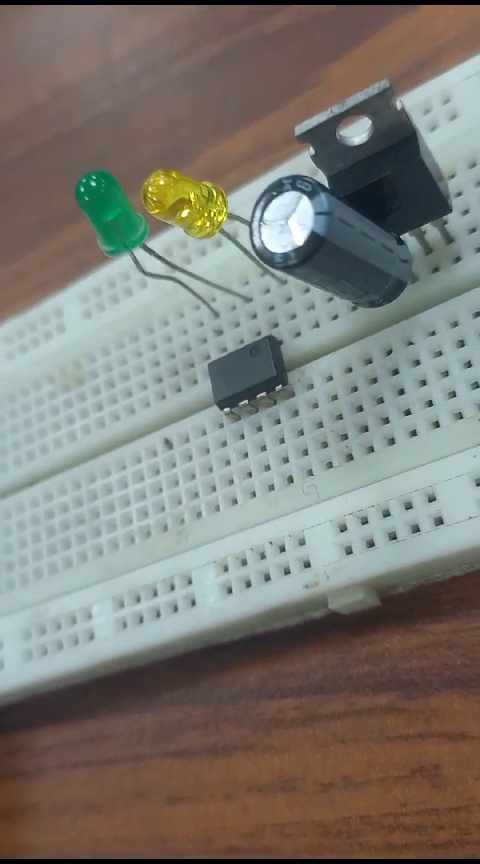IC: (188, 340, 299, 409)
LED: (59, 147, 148, 289), (139, 172, 232, 247)
capacitor: (256, 171, 411, 321)
voltage regulator: (299, 72, 444, 219)
